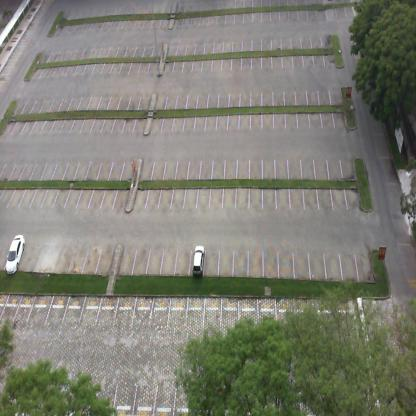car: (4, 235, 25, 276), (188, 242, 204, 276)
